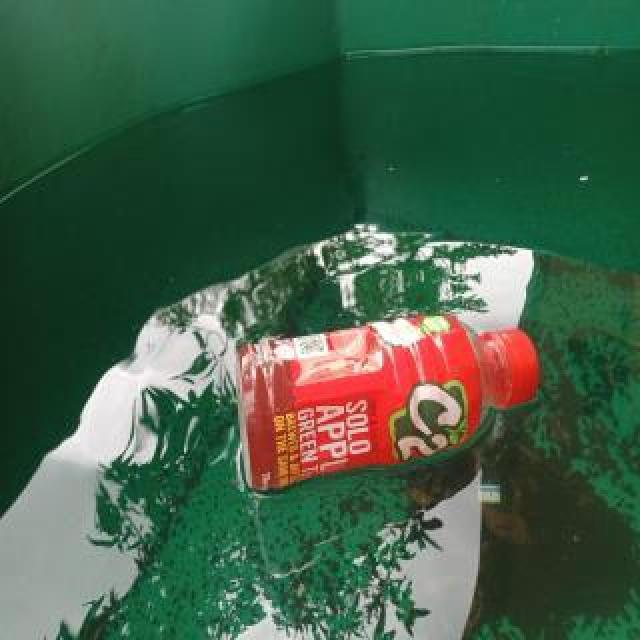bottle: (231, 306, 541, 496)
